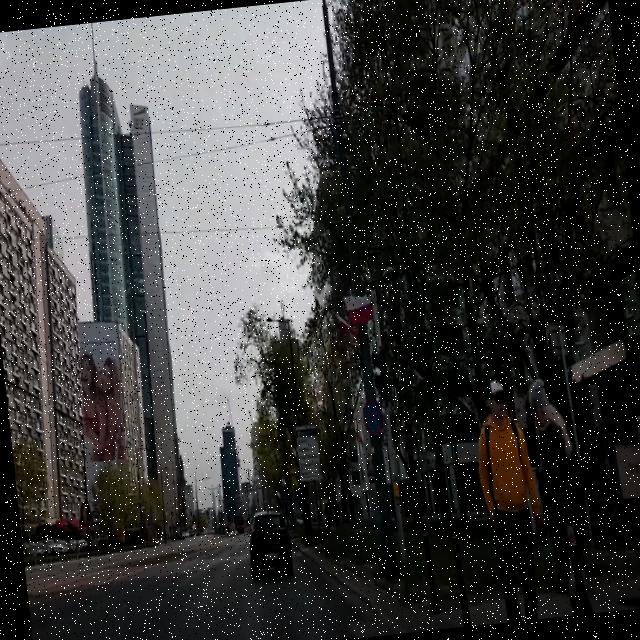Zakaz zatrzymywania sie: (361, 397, 385, 436)
